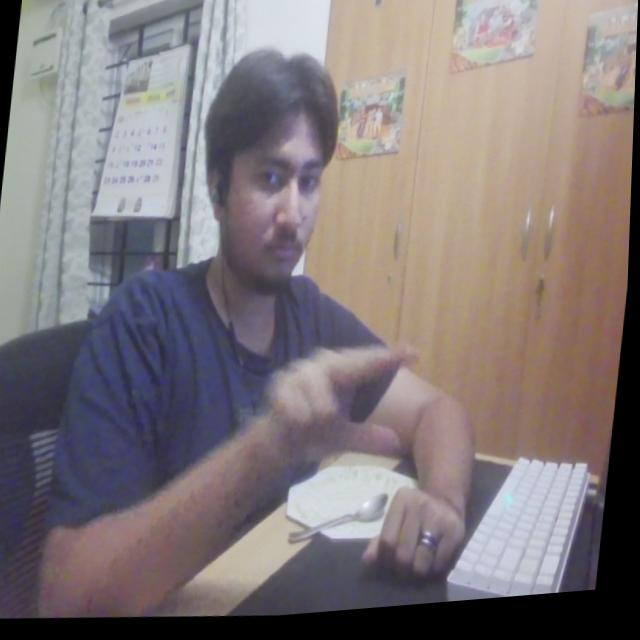no: (253, 323, 430, 502)
